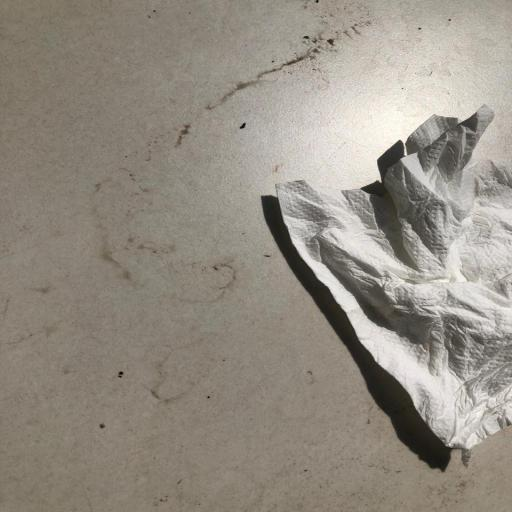waste: (252, 97, 512, 468)
